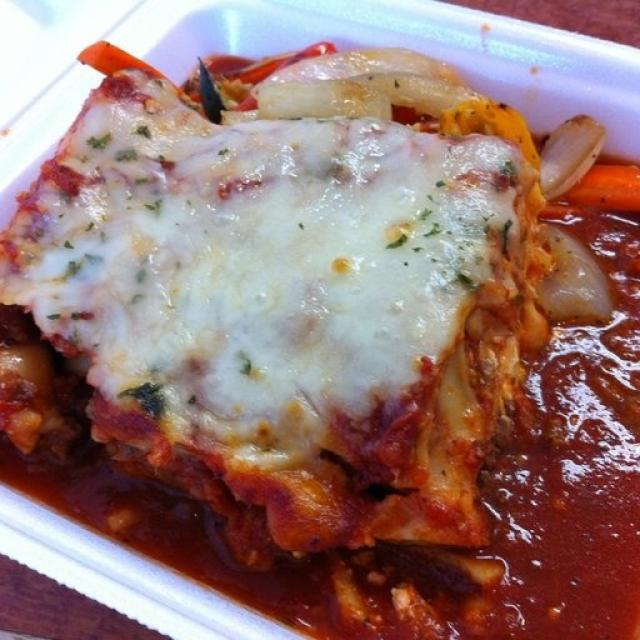Lasagna: (34, 50, 575, 560)
